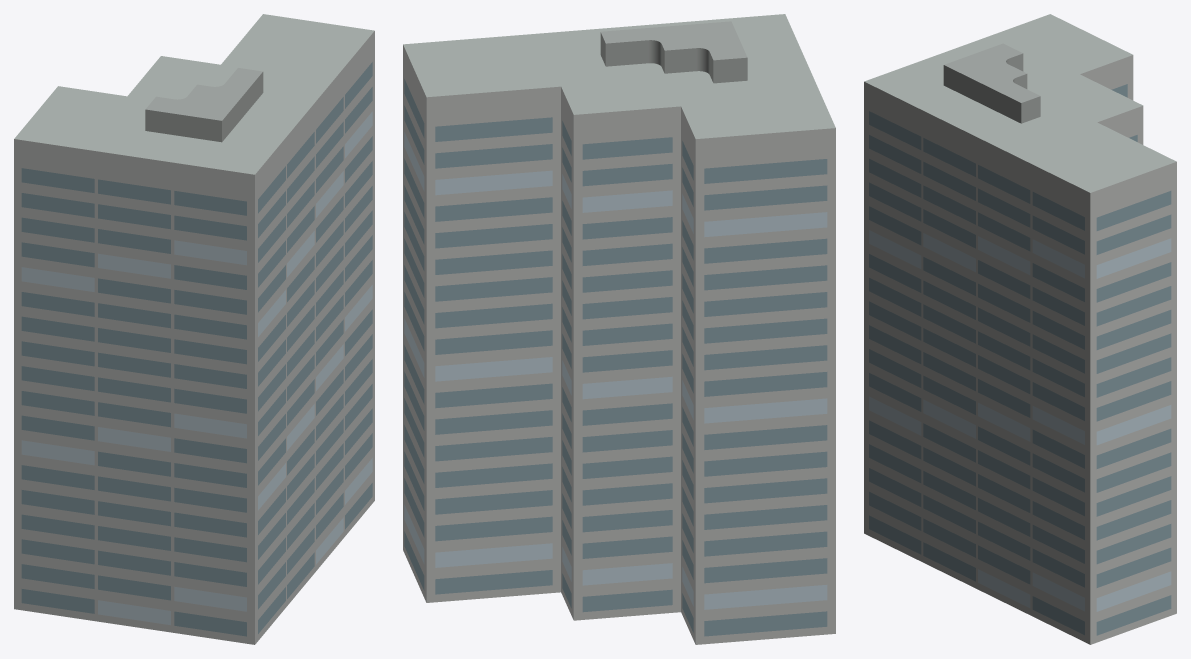
Rendered from fallback-mapo-raemian-prugio-306.glb.
3 renders of one model, left to right at view 1: azimuth 30°, elevation 25°; view 2: azimuth 150°, elevation 25°; view 3: azimuth 270°, elevation 25°, orthographic. The views are drawn at different scales.
Visible parts, largest first — view 1: fallback-mapo-raemian-prugio-306; view 2: fallback-mapo-raemian-prugio-306; view 3: fallback-mapo-raemian-prugio-306.
Part boxes in pixels (x1,y1,x2,y2): fallback-mapo-raemian-prugio-306: [14, 14, 374, 644]; fallback-mapo-raemian-prugio-306: [403, 14, 835, 644]; fallback-mapo-raemian-prugio-306: [864, 14, 1176, 644].
Bounding box in the file's own units: 44.67 × 55 × 33.
